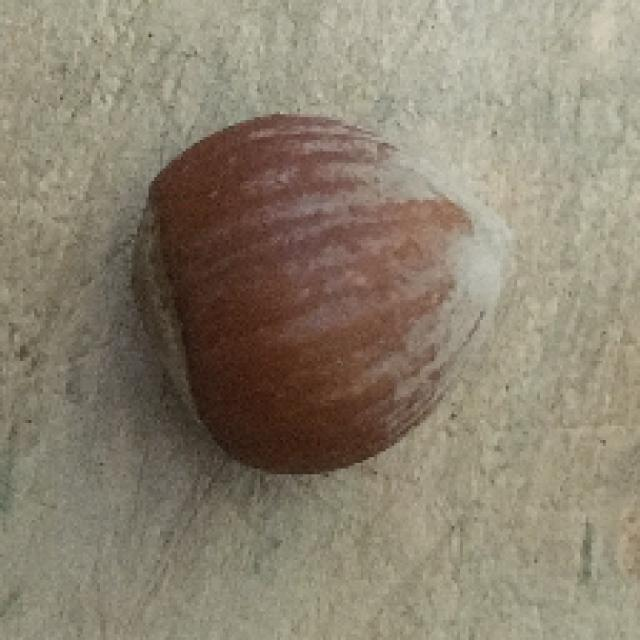qualityHazelnut: (129, 114, 518, 478)
